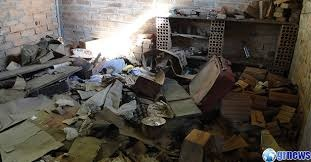rubble: (77, 42, 295, 146)
